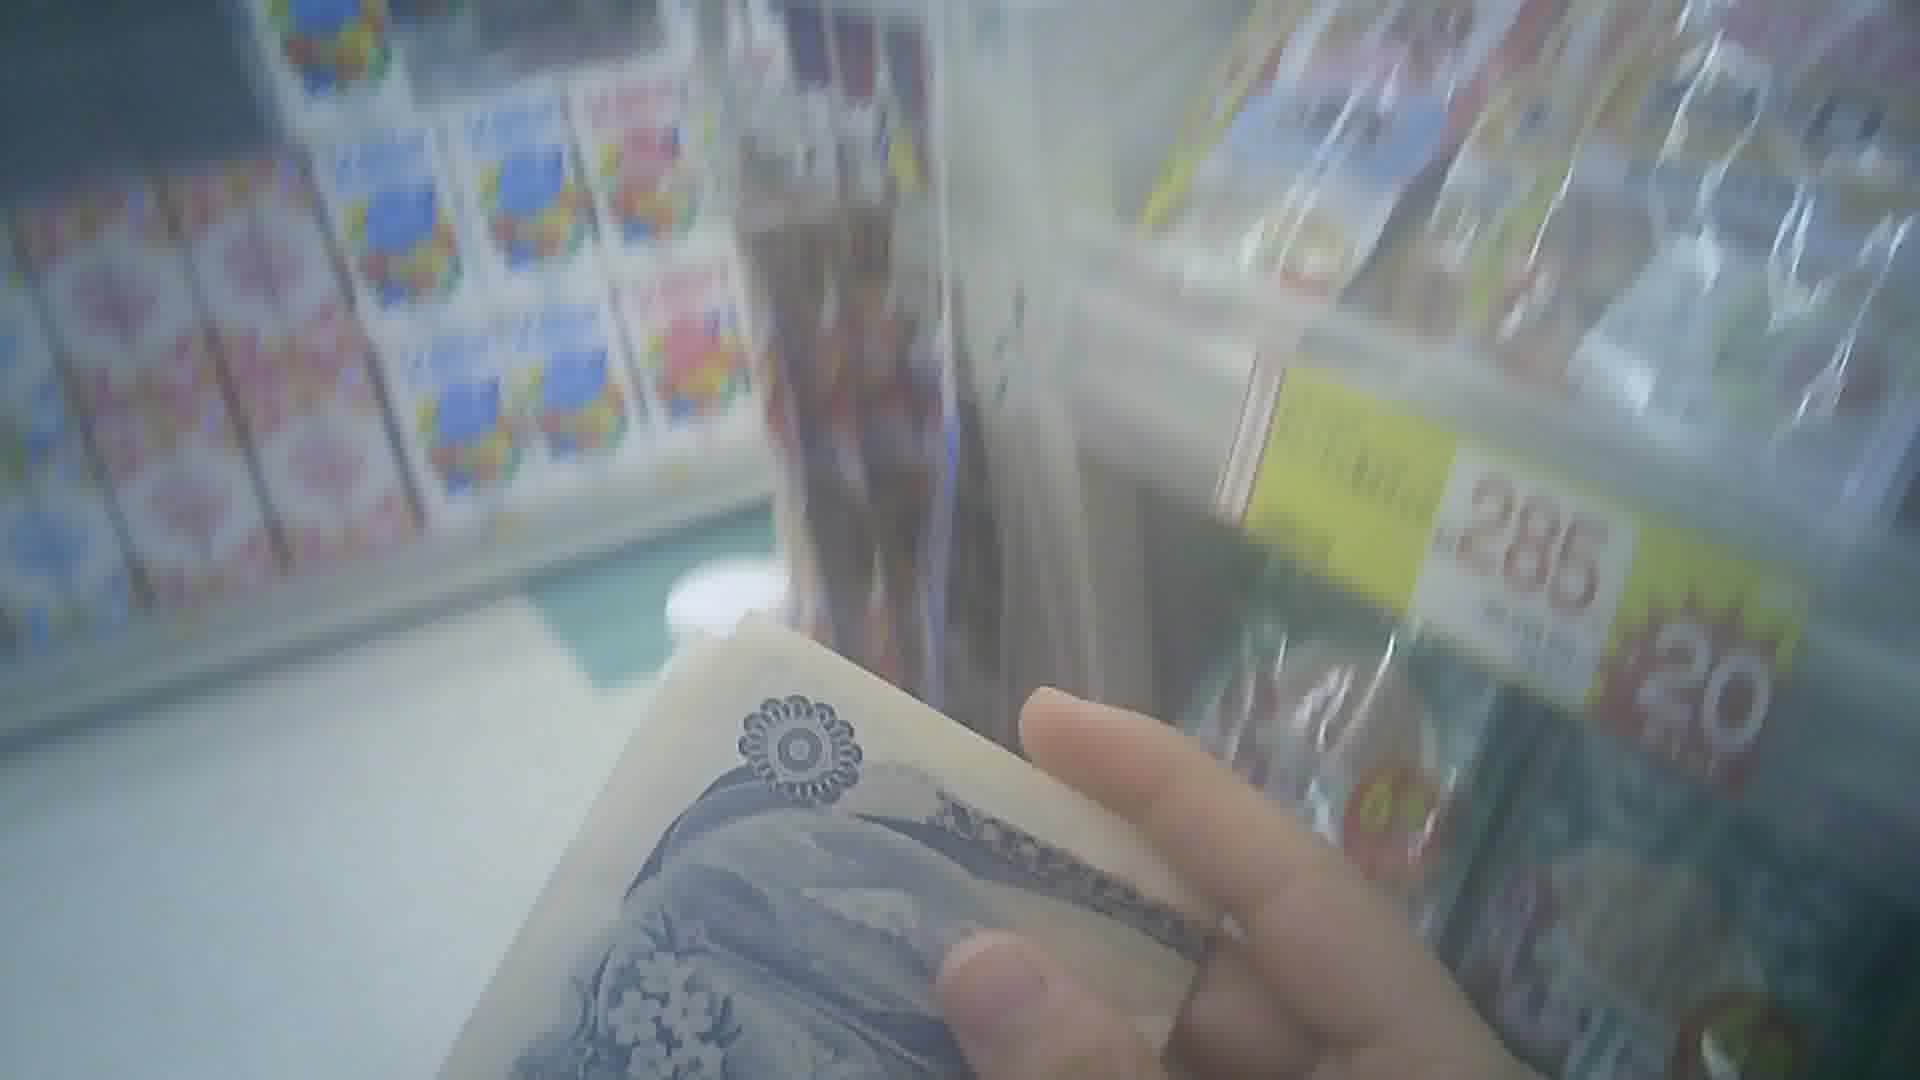1,000 Yen: (460, 636, 1234, 1063)
